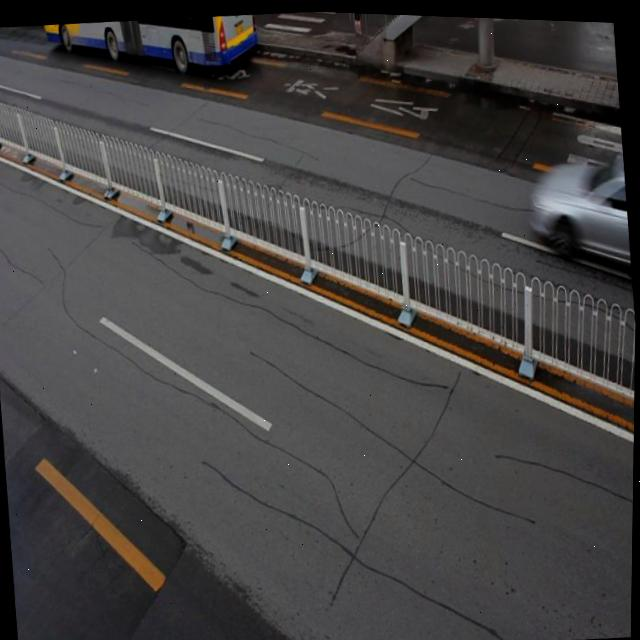car: (527, 145, 633, 276)
van: (42, 6, 260, 90)
